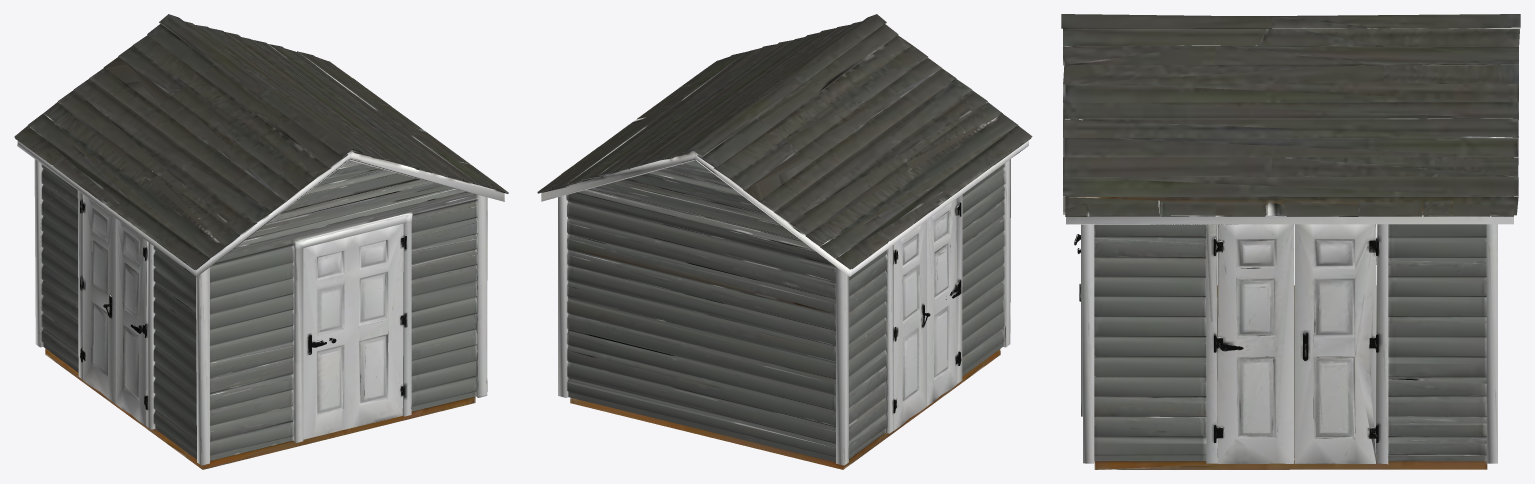
File: shed_generic.glb
3 renders of one model, left to right at view 1: azimuth 30°, elevation 25°; view 2: azimuth 150°, elevation 25°; view 3: azimuth 270°, elevation 25°, orthographic. The views are drawn at different scales.
Bounding box in the file's own units: 0.94 × 0.8497 × 0.9497.
Materials: 1 (1 with a texture image).
